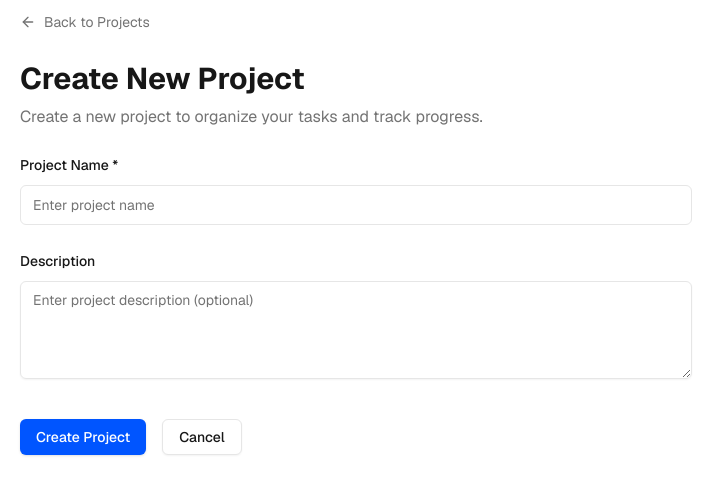
Test: ProjectForm › shows validation error for empty project name
Click the button "Create Project" at (83, 437), box [20,419,146,455]
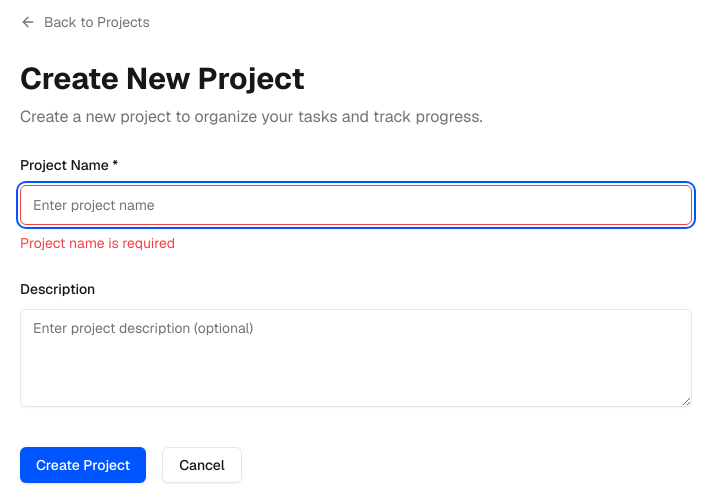
Expected: the text "Project name is required" is shown, [20,234,175,252]
